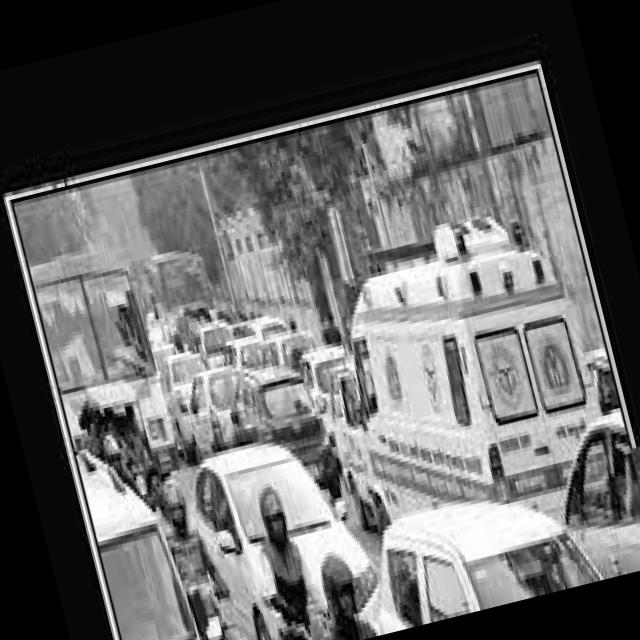ambulance: (317, 203, 617, 535)
